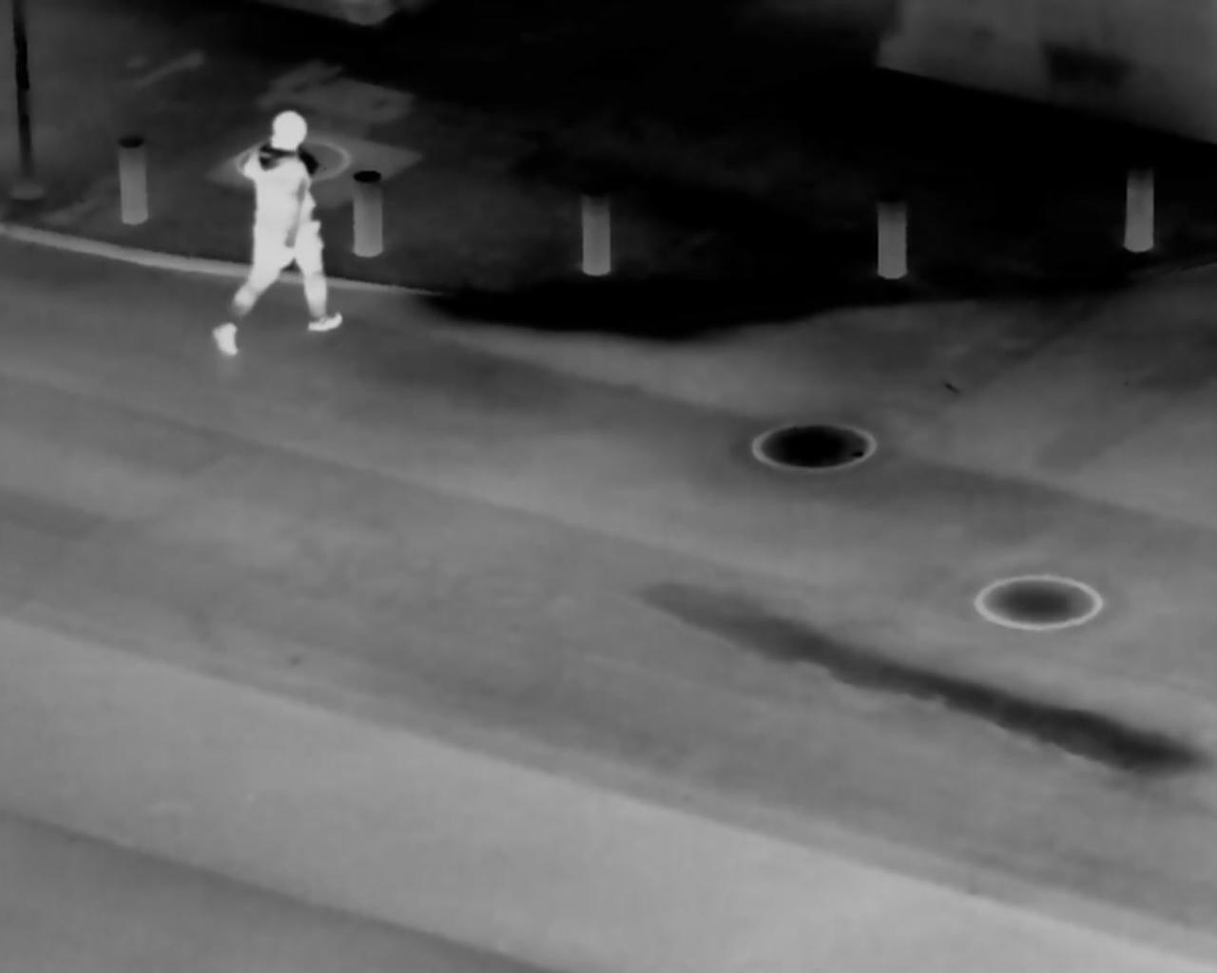person: (212, 111, 340, 357)
